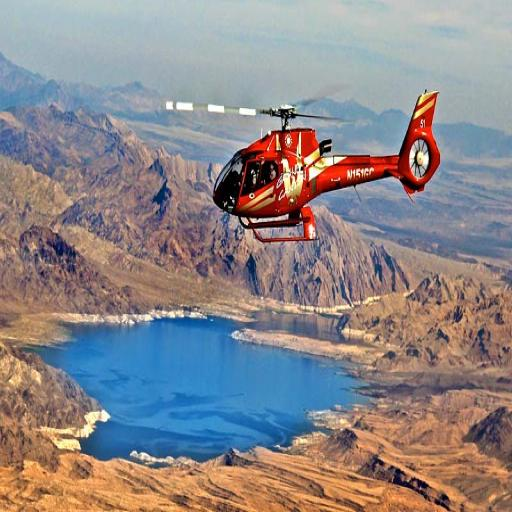helicopter: (159, 66, 452, 260)
